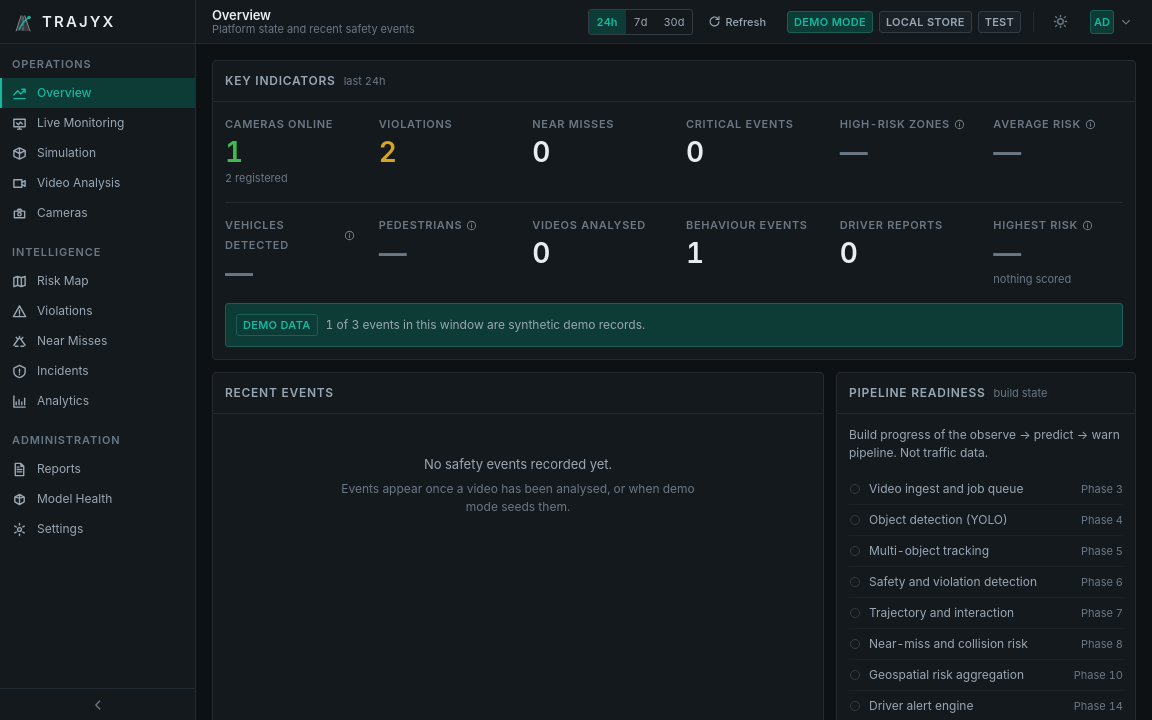
it: profile menu › signs out and returns to the login page
Click the button with aria-label "account menu".
click(1111, 22)  # box [1086,8,1136,36]
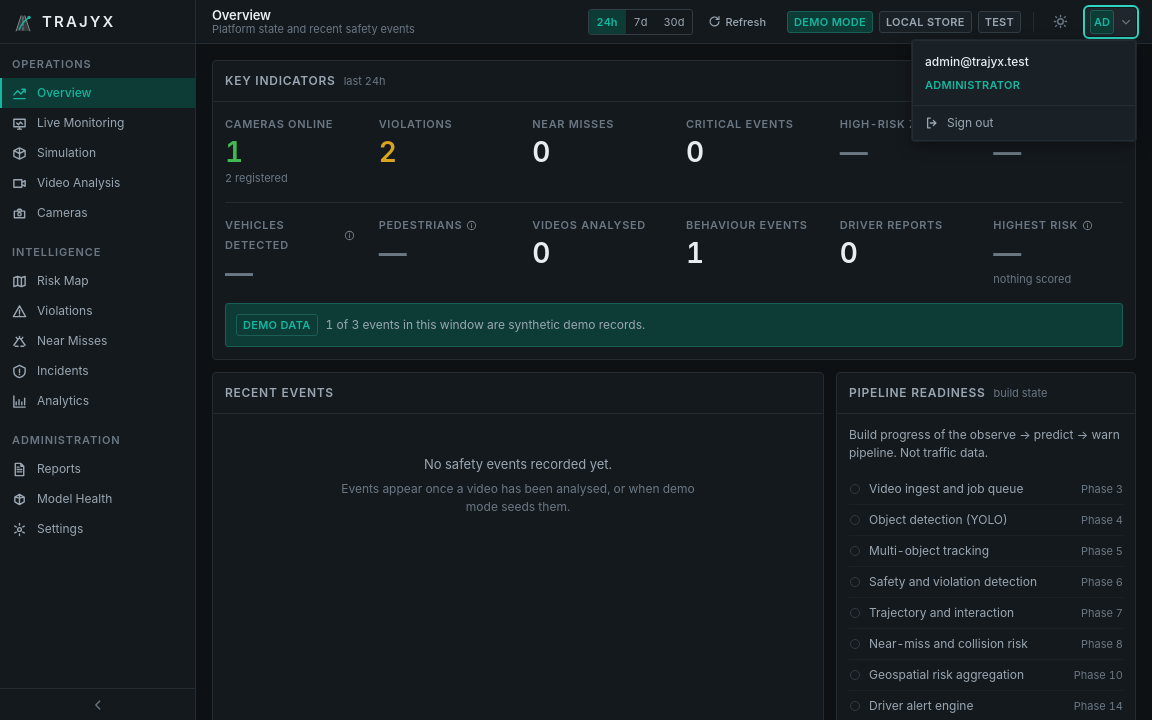
Click the menu item "Sign out".
click(1024, 122)  # box [913,106,1135,140]
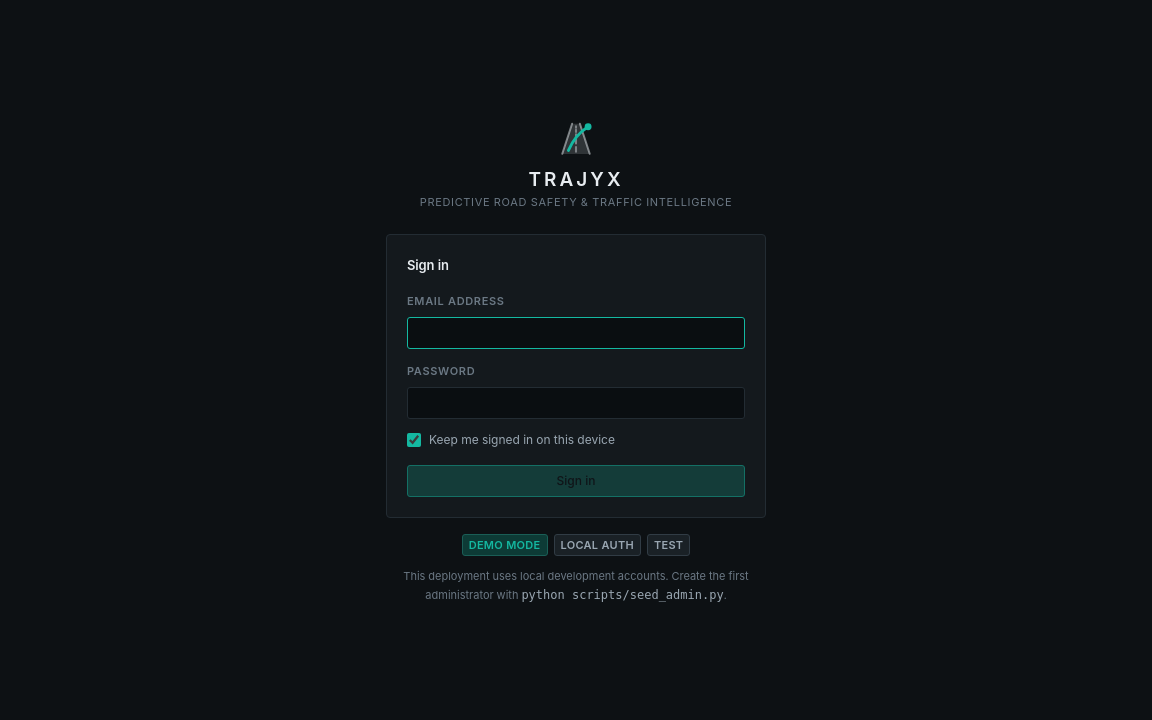
Expected: the heading "Sign in" is shown, [407,257,449,273]
